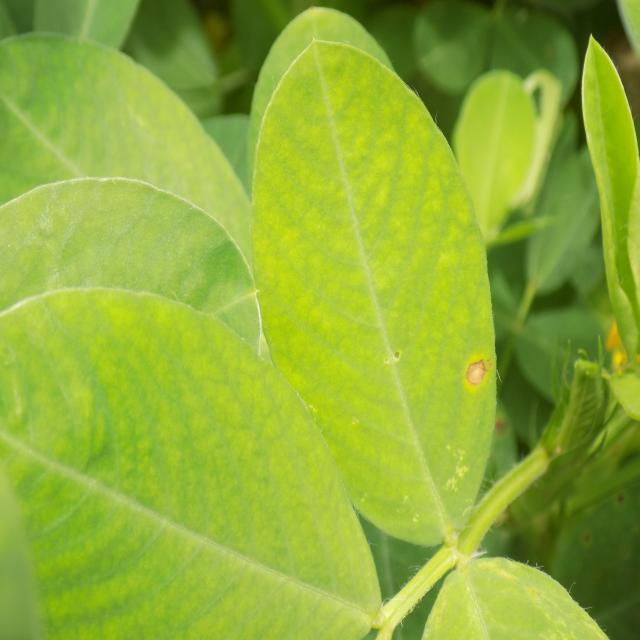Ground nut_healthy: (249, 42, 495, 549)
